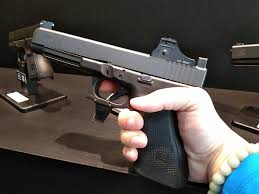gun: (27, 17, 209, 194)
